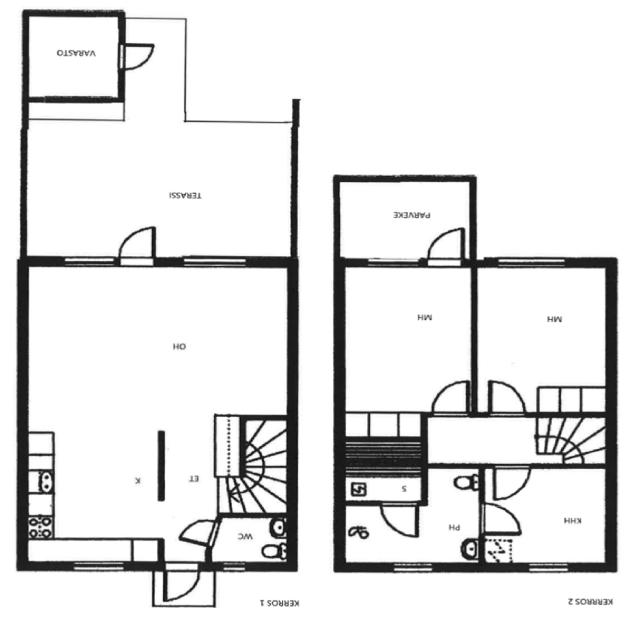door: (424, 376, 528, 419), (162, 520, 210, 603), (156, 556, 205, 608), (114, 222, 162, 268), (487, 459, 537, 502), (373, 500, 423, 543), (426, 376, 474, 418), (474, 498, 524, 538), (423, 222, 469, 265), (482, 377, 529, 419), (176, 515, 220, 549), (116, 41, 158, 72)
window: (175, 250, 256, 274), (490, 250, 573, 273), (64, 556, 133, 577), (57, 250, 120, 272), (361, 252, 425, 270), (520, 559, 577, 578), (388, 560, 440, 578), (218, 560, 250, 576)
zone: (25, 118, 298, 261), (23, 266, 295, 409), (340, 261, 476, 425), (474, 261, 612, 413), (18, 427, 170, 563), (478, 466, 610, 567), (337, 180, 474, 260), (25, 14, 122, 101), (421, 463, 484, 567), (339, 430, 424, 505), (240, 417, 290, 515), (213, 516, 290, 567)
